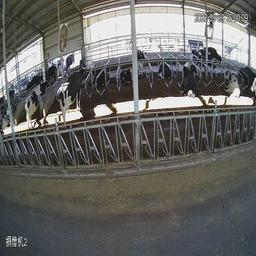cow: (57, 66, 88, 131), (20, 78, 52, 134), (180, 65, 203, 104), (239, 55, 255, 106), (153, 51, 176, 85), (200, 43, 222, 71), (223, 68, 241, 100), (91, 64, 109, 94), (188, 35, 203, 71), (116, 58, 131, 93), (135, 39, 148, 76)
